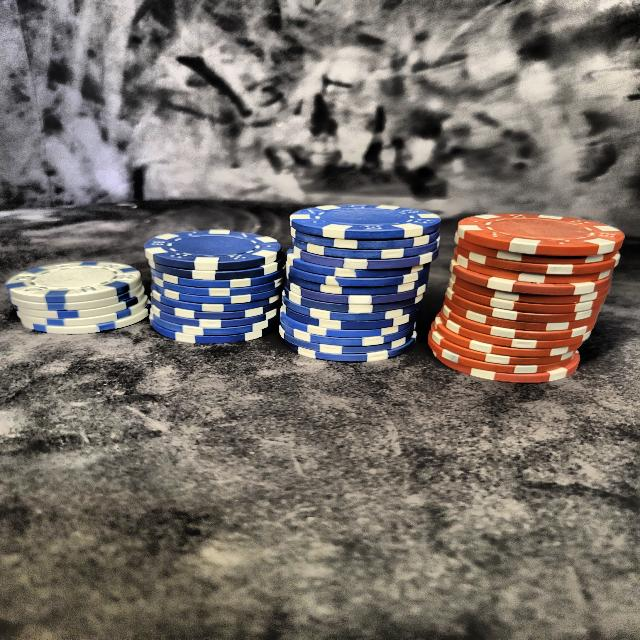Chip: (430, 189, 622, 396), (285, 182, 446, 382), (150, 227, 275, 341), (15, 244, 151, 341)
